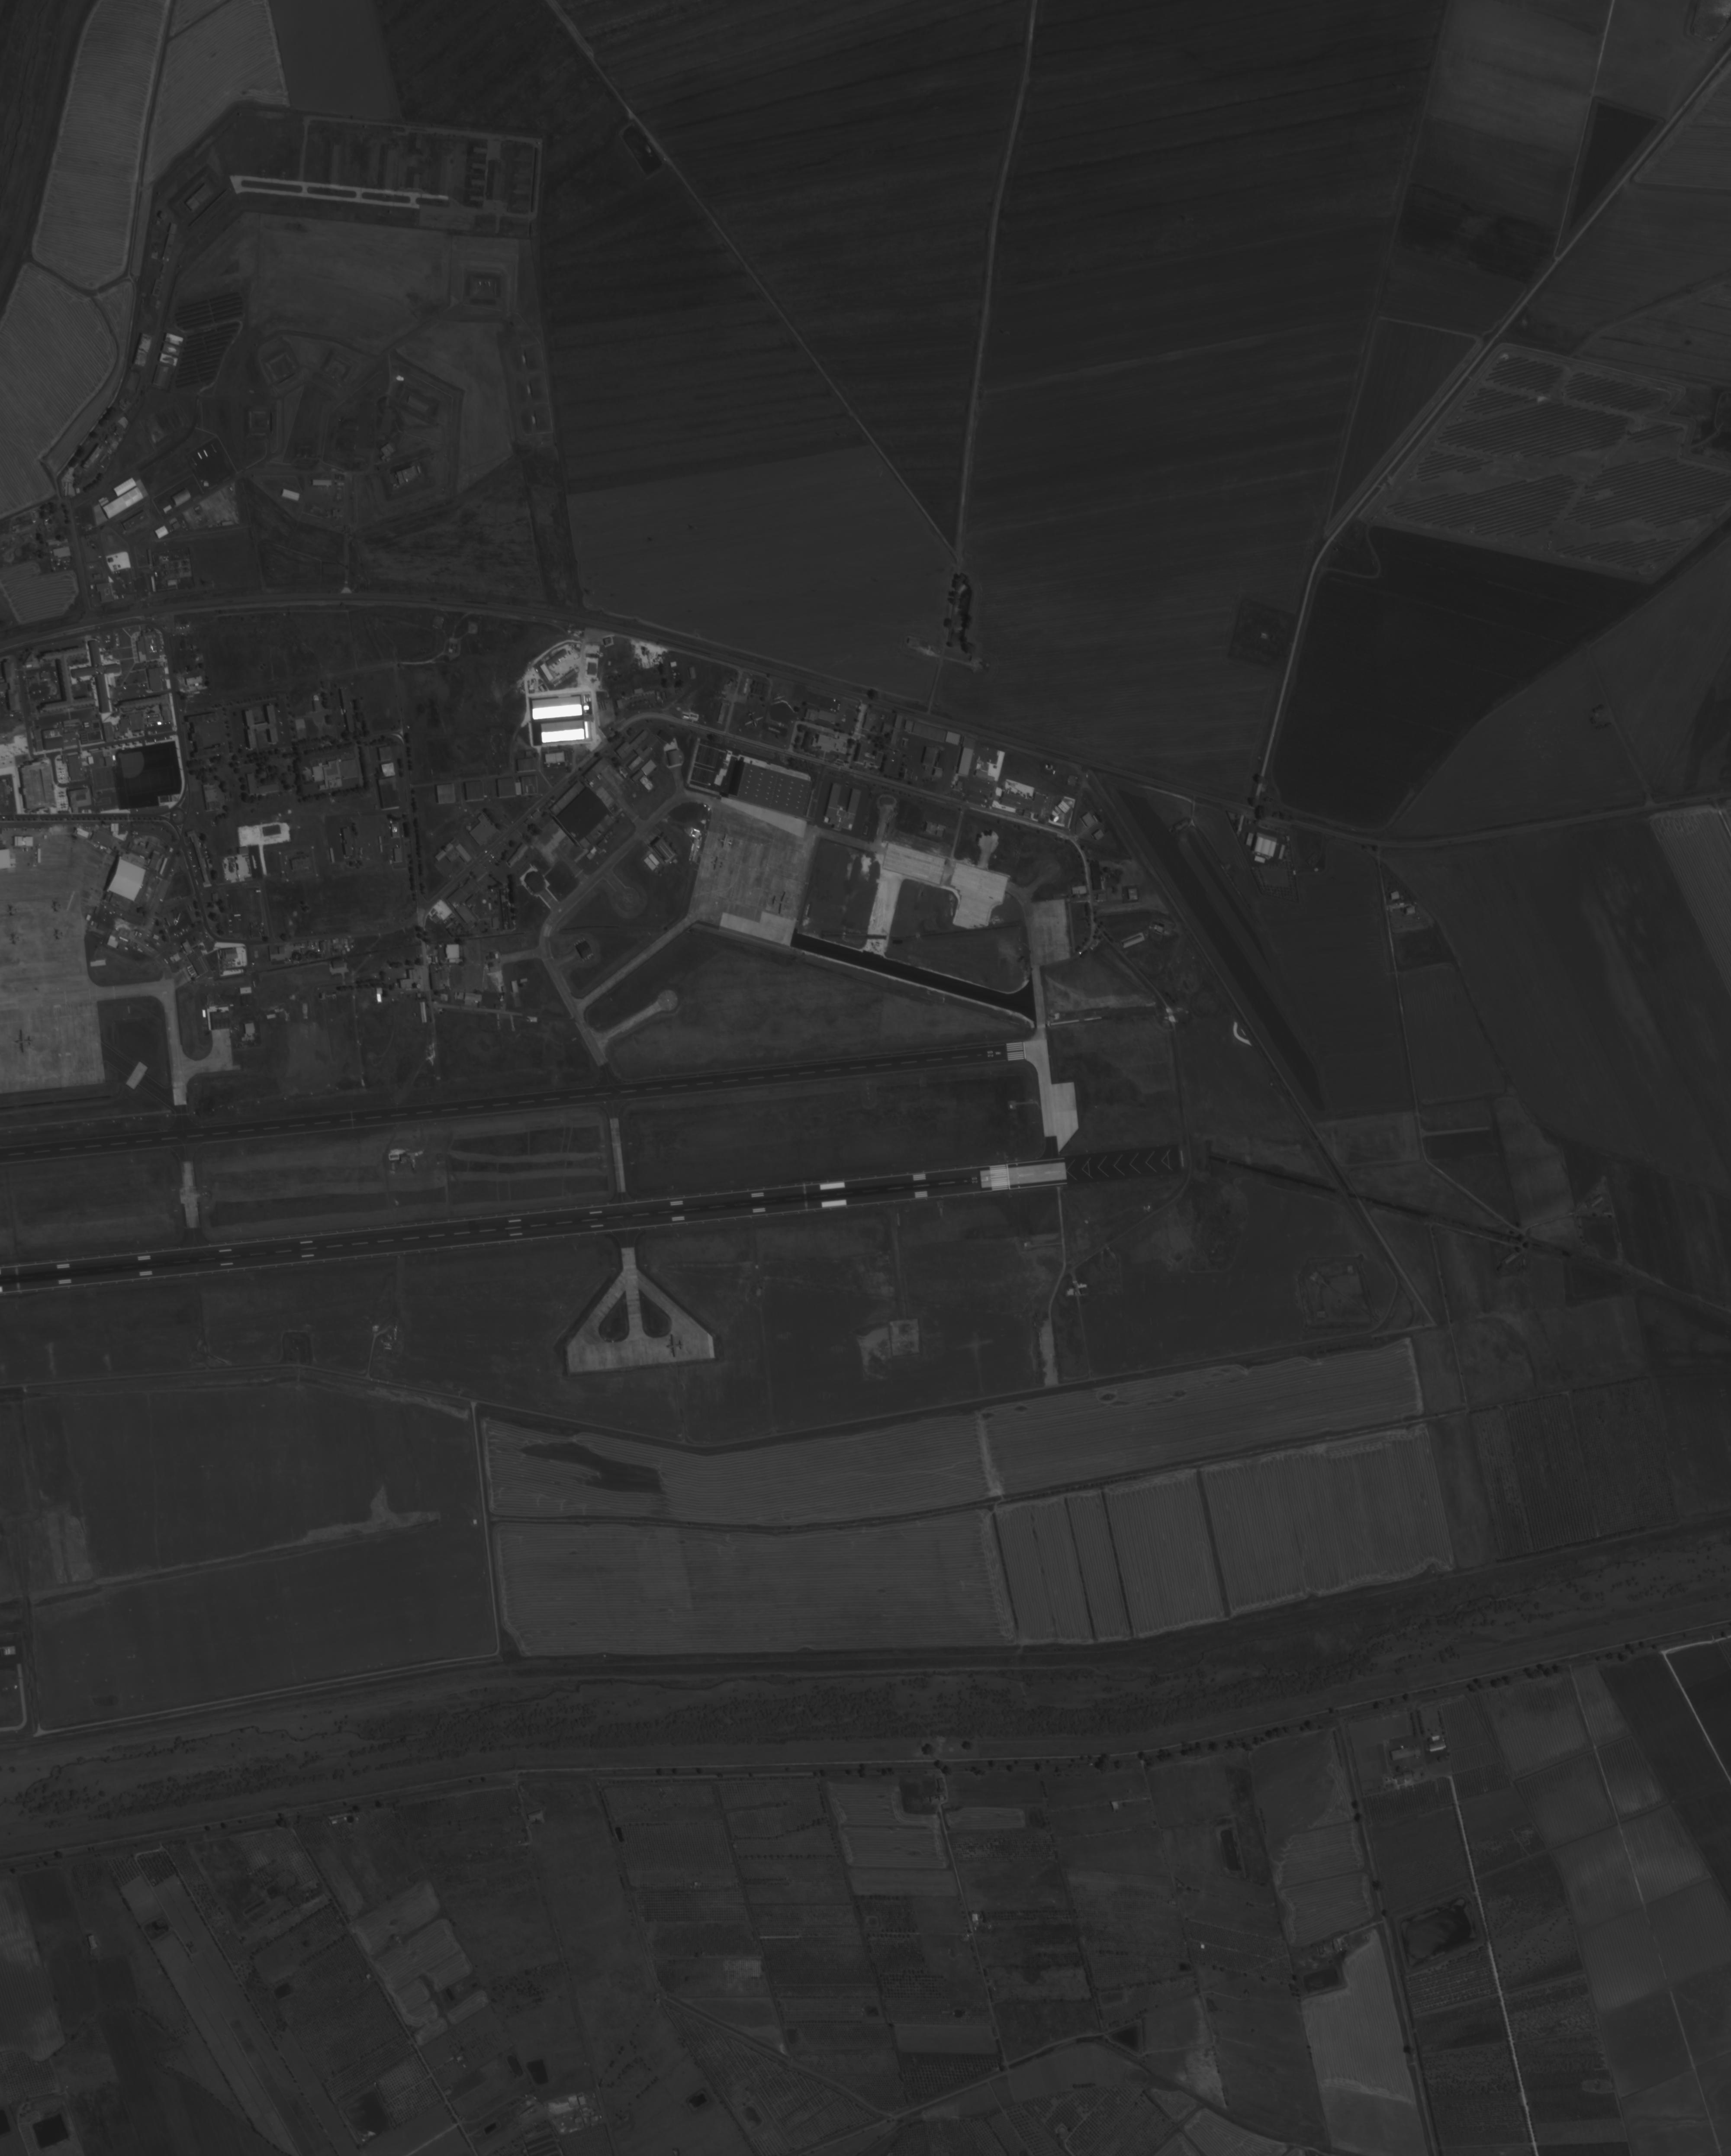plane: (767, 887, 797, 919), (738, 705, 765, 732), (662, 1331, 687, 1359), (12, 1027, 34, 1055), (715, 831, 737, 854), (708, 854, 728, 875), (770, 691, 788, 705), (7, 903, 19, 919), (53, 928, 65, 942), (51, 900, 64, 914), (9, 933, 21, 945)
